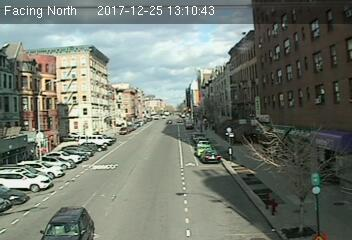car: (40, 203, 94, 240), (201, 150, 221, 163)
